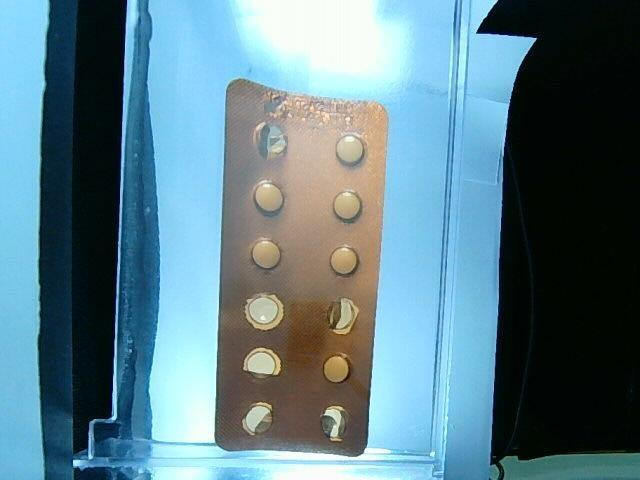Light Front: (213, 80, 389, 459)
No Pill Front: (245, 293, 285, 330), (254, 123, 287, 159), (243, 348, 281, 379), (328, 298, 359, 335), (320, 405, 348, 441), (243, 403, 273, 436)
Pill Front: (254, 181, 284, 214), (251, 238, 281, 269), (334, 190, 362, 222), (336, 134, 364, 166), (330, 246, 358, 274), (323, 354, 351, 382)
